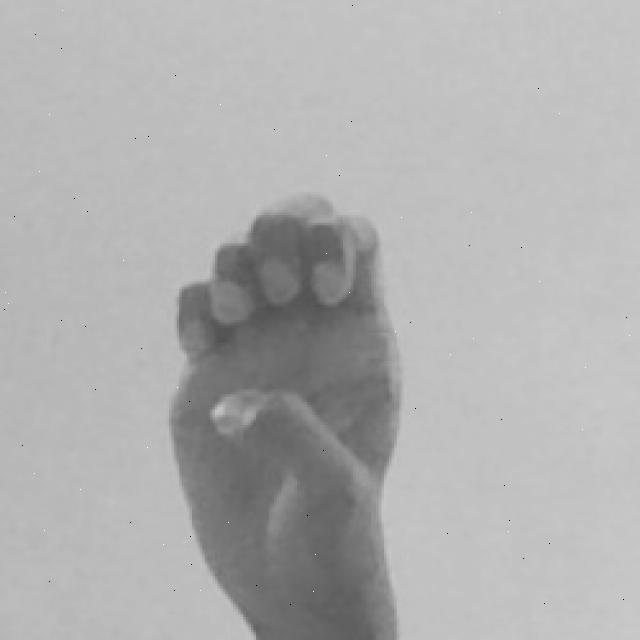E: (166, 192, 410, 640)
